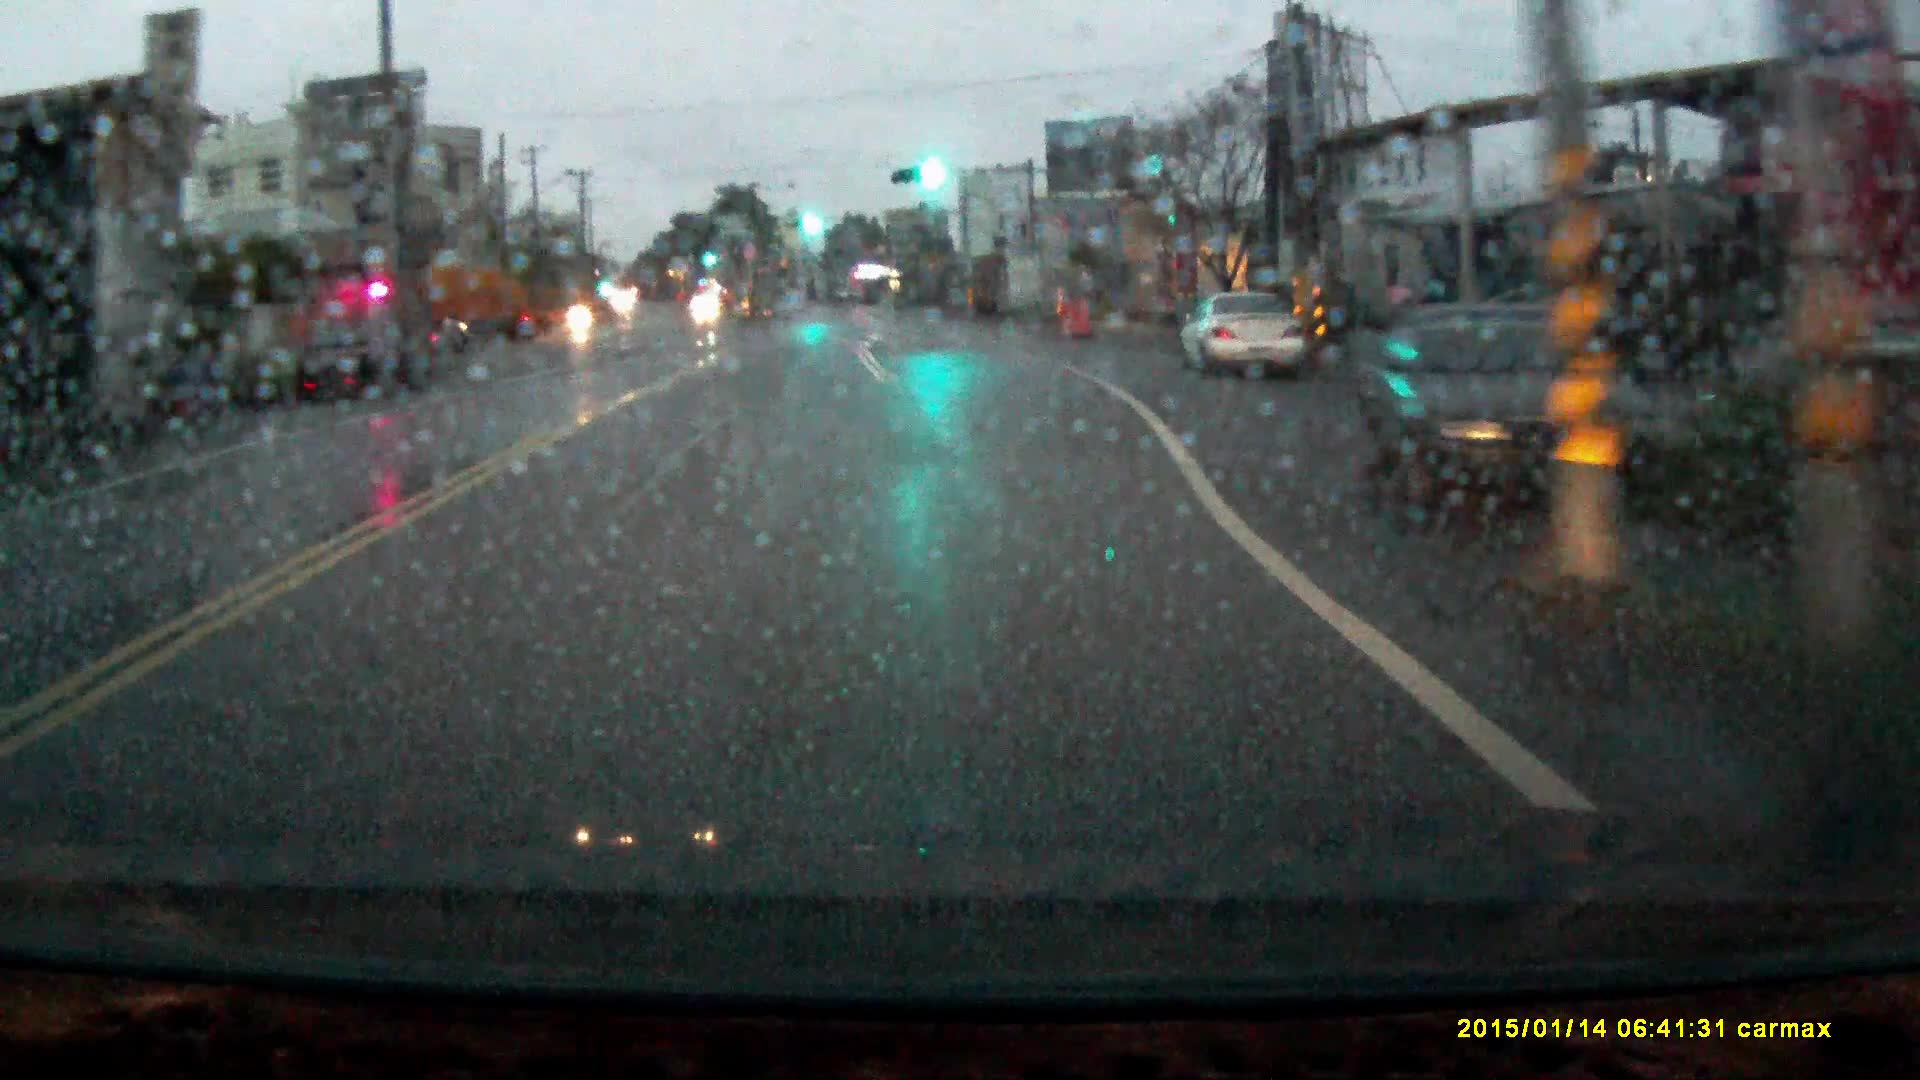rider: (562, 292, 597, 351)
vehicle: (1353, 319, 1661, 518), (1176, 288, 1304, 378), (291, 319, 421, 395), (419, 265, 540, 345), (692, 296, 720, 319)
